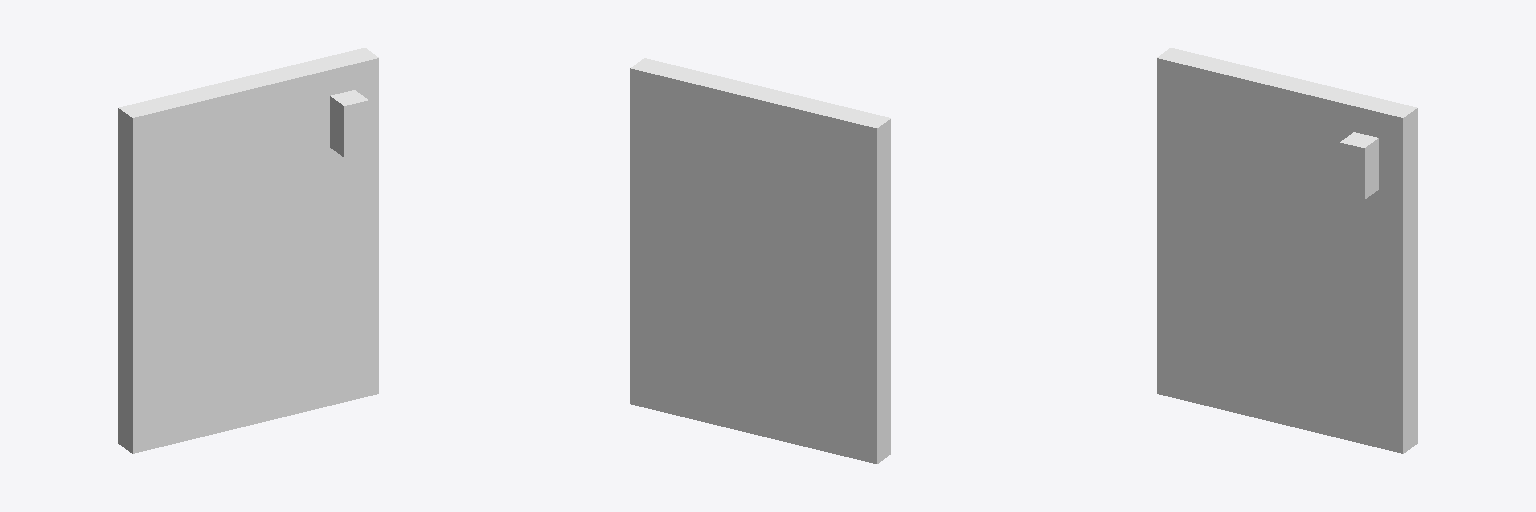
The model's file is Kitchen_cabinets-11.obj.
The picture shows the model from 3 angles: view 1: azimuth 30°, elevation 25°; view 2: azimuth 150°, elevation 25°; view 3: azimuth 330°, elevation 25°; orthographic projection.
Parts seen in each view (by area): view 1: object 1; view 2: object 1; view 3: object 1.
Part boxes in pixels (x1,y1,x2,y2): object 1: (118,48,378,453); object 1: (630,58,890,463); object 1: (1157,48,1417,453).
Size of the model in its own units: 1 by 1.3 by 0.2.